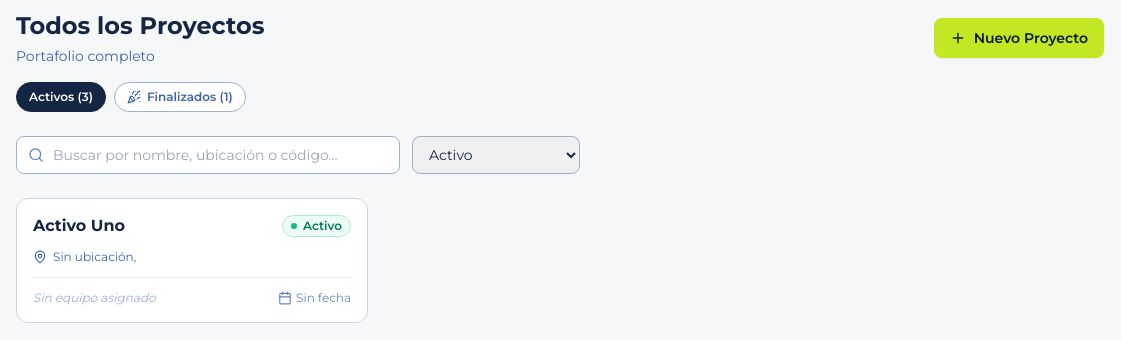
la pestaña de finalizados › muestra los finalizados aunque la lista abra en los activos
The image size is (1121, 340).
Click the button "Finalizados (1)".
click(180, 97)  # box top-left (114, 82), bottom-right (246, 112)
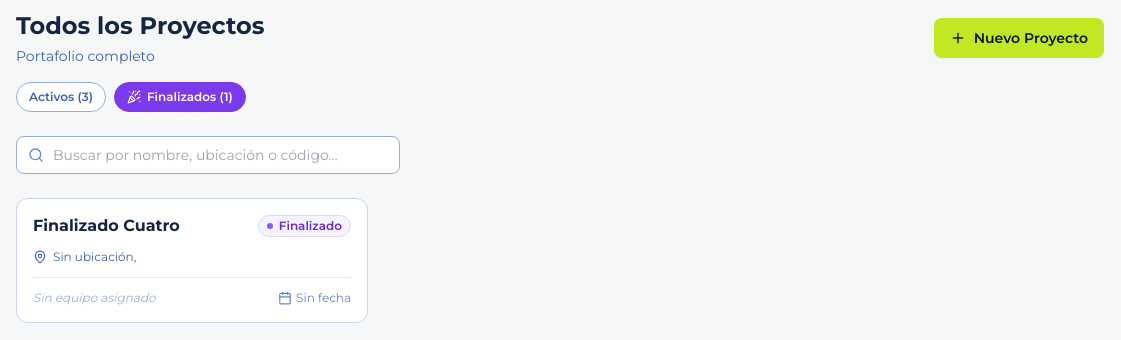
Expected: the heading "Finalizado Cuatro" is shown, top-left (33, 215), bottom-right (180, 237)
